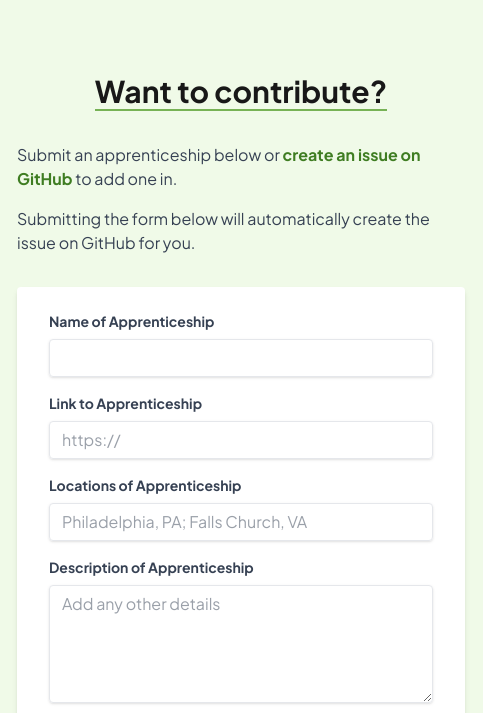
it: SubmitForm › shows success without a link when no URL comes back
The image size is (483, 713).
Type "Acme" into the field labelled "Name of Apprenticeship" at [241, 358], box x1=49 y1=339 x2=433 y2=377
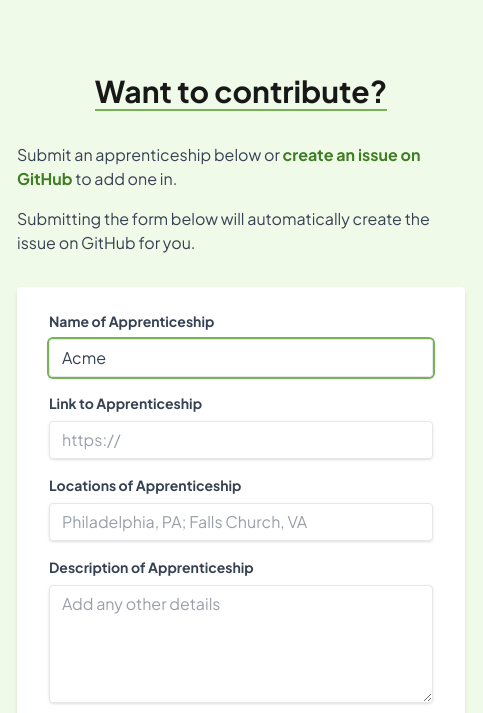
Type "https://acme.example" into the field labelled "Link to Apprenticeship" at [241, 440], box x1=49 y1=421 x2=433 y2=459
(page scrolled)
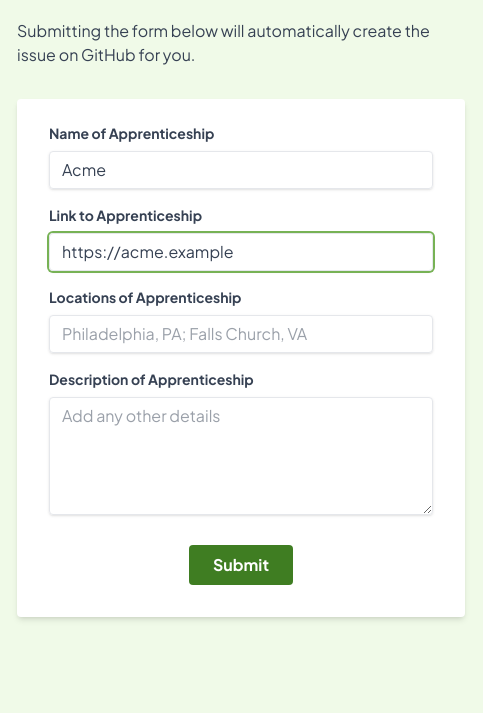
Click the button "Submit" at [241, 565], box x1=189 y1=545 x2=293 y2=585
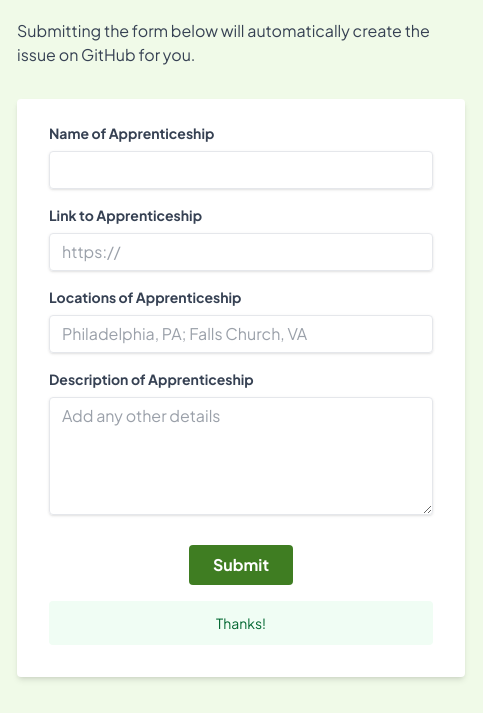
Now the text "Thanks!" is shown, box x1=49 y1=601 x2=433 y2=645
